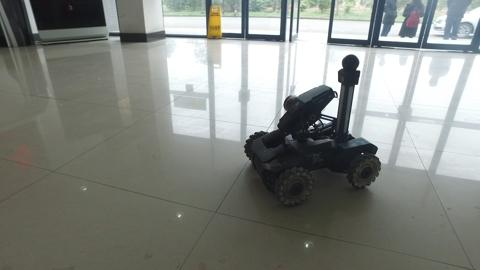chariot: (244, 53, 382, 207)
